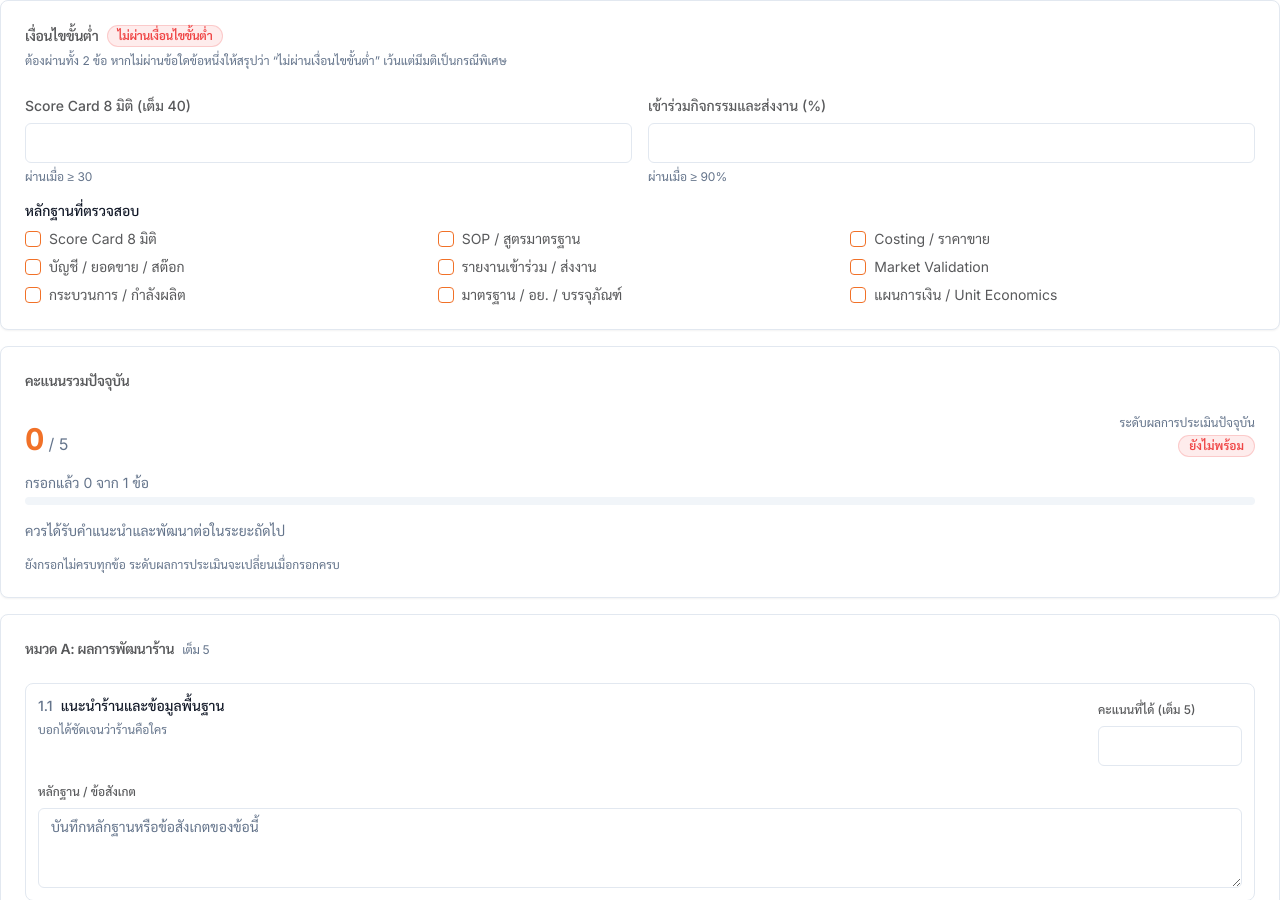
Test: PitchingForm › refuses a Score Card reading above its maximum
Type "41" into the number field labelled "Score Card 8 มิติ (เต็ม 40)" at (328, 143), box [25, 123, 632, 163]
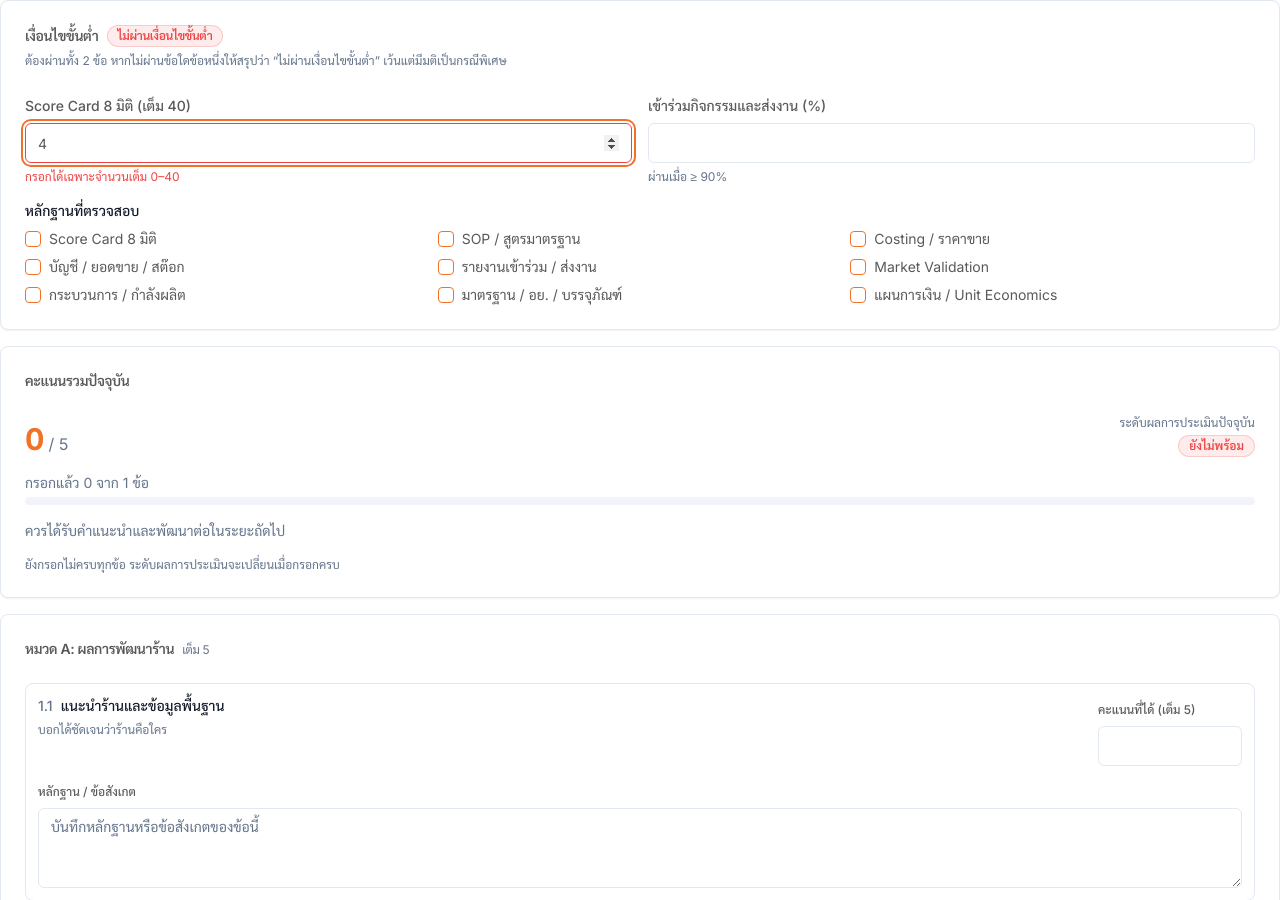
Now the number field labelled "Score Card 8 มิติ (เต็ม 40)" holds "4", box [25, 123, 632, 163]
Now the text "กรอกได้เฉพาะจำนวนเต็ม 0–40" is shown, box [25, 169, 180, 184]
